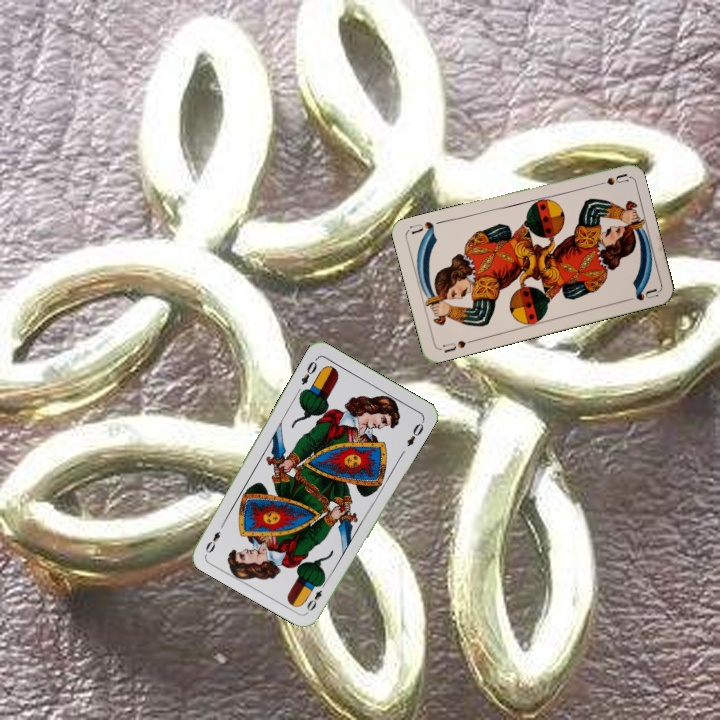EO: (303, 577, 329, 614), (297, 354, 320, 388)
SU: (588, 170, 629, 189), (439, 336, 476, 356)
